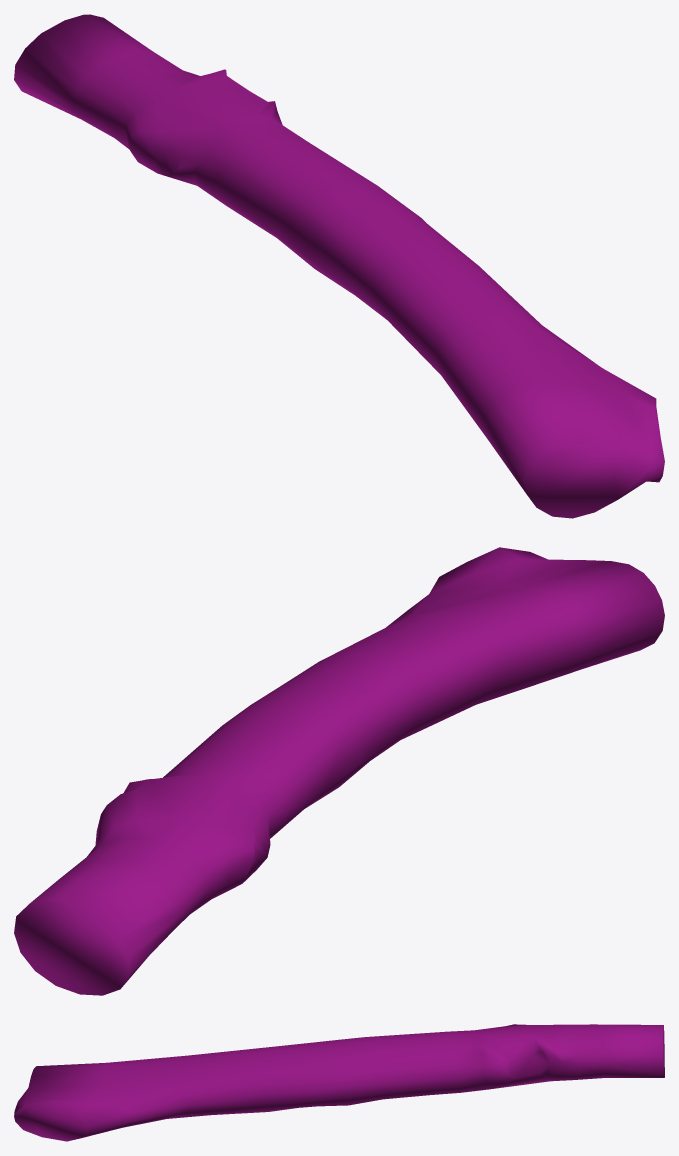
Rendered from IVC_in.fbx.
3 views of the same model, one above another, from view 1: azimuth 30°, elevation 25°; view 2: azimuth 150°, elevation 25°; view 3: azimuth 270°, elevation 25° (orthographic). The views are drawn at different scales.
Visible parts, largest first — view 1: IVC_in; view 2: IVC_in; view 3: IVC_in.
Part boxes in pixels (x1,y1,x2,y2): IVC_in: [14, 14, 664, 518]; IVC_in: [14, 547, 664, 995]; IVC_in: [14, 1024, 664, 1141].
Bounding box in the file's own units: 26.49 × 20.02 × 124.
